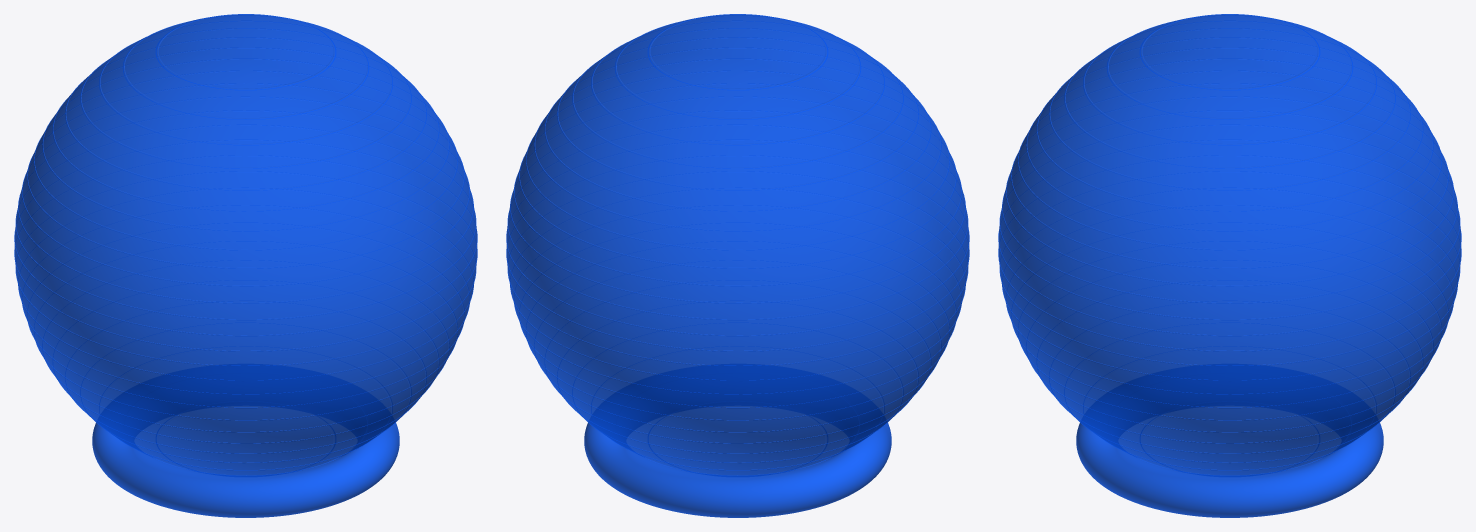
The model's file is balanceball.gltf.
The picture shows the model from 3 angles, left to right: view 1: azimuth 30°, elevation 25°; view 2: azimuth 150°, elevation 25°; view 3: azimuth 270°, elevation 25°; orthographic projection.
Parts seen in each view (by area): view 1: balanceball_clone; view 2: balanceball_clone; view 3: balanceball_clone.
Part boxes in pixels (left/top/right/bottom): balanceball_clone: left=14, top=14, right=477, bottom=517; balanceball_clone: left=506, top=14, right=969, bottom=517; balanceball_clone: left=998, top=14, right=1461, bottom=517.
Bounding box in the file's own units: 0.5506 × 0.5558 × 0.5506.
